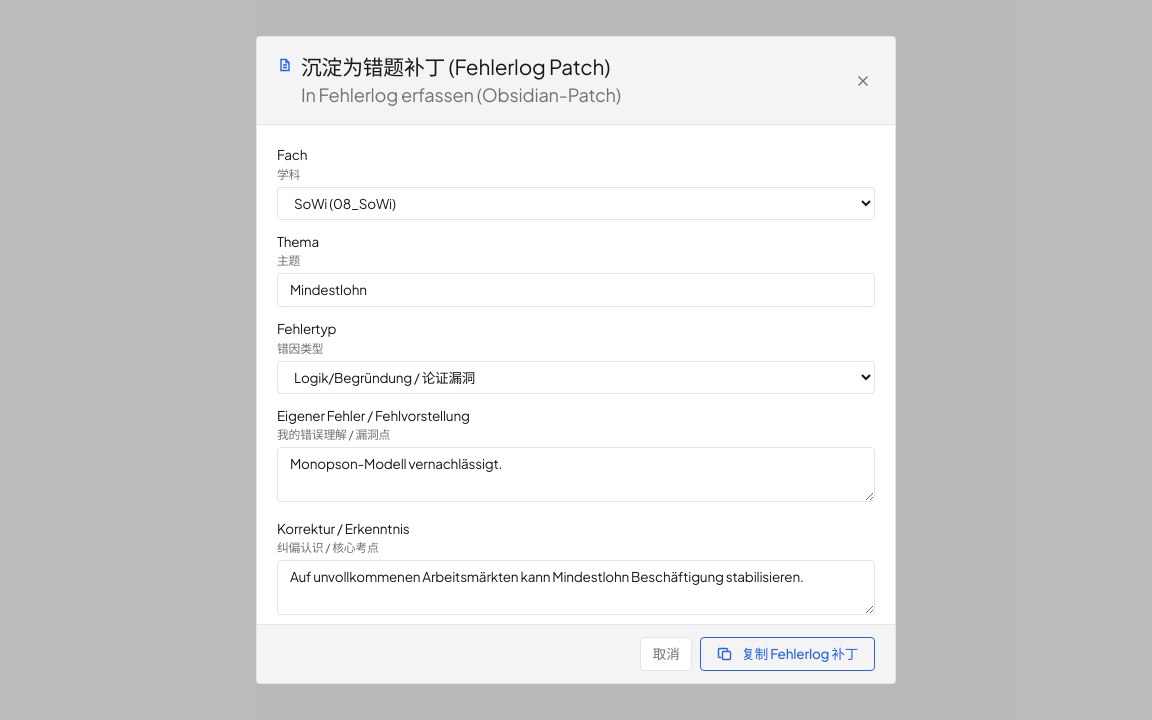
Scenario: FehlerlogModal.tsx - Interaktiver Fehler-Erfassungs-Dialog › kopiert den generierten Patch in die Zwischenablage und zeigt Feedback
Click the button "复制 Fehlerlog 补丁" at (788, 654), box [700, 637, 875, 671]
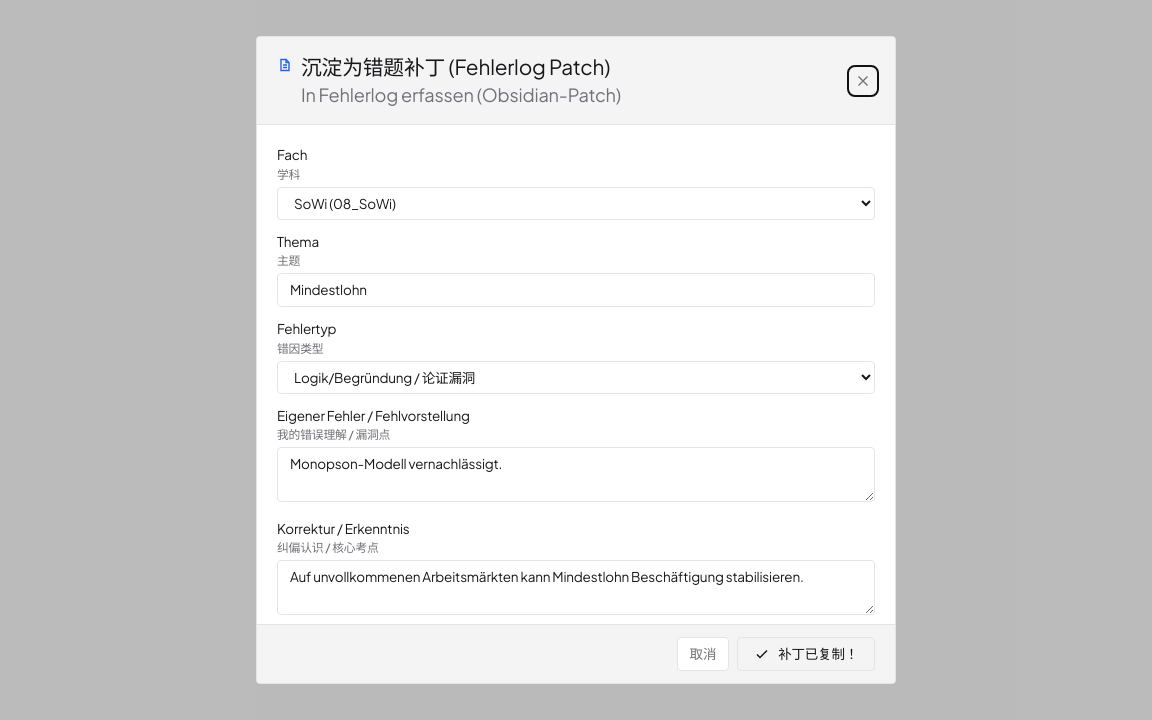
Expected: the button "补丁已复制！" is shown, [737, 637, 875, 671]
